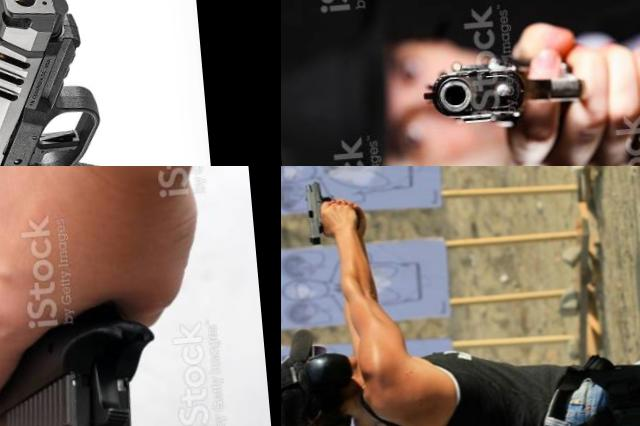handgun: (0, 0, 177, 166), (0, 272, 178, 426), (416, 34, 640, 137), (0, 0, 143, 113), (302, 172, 366, 249)
